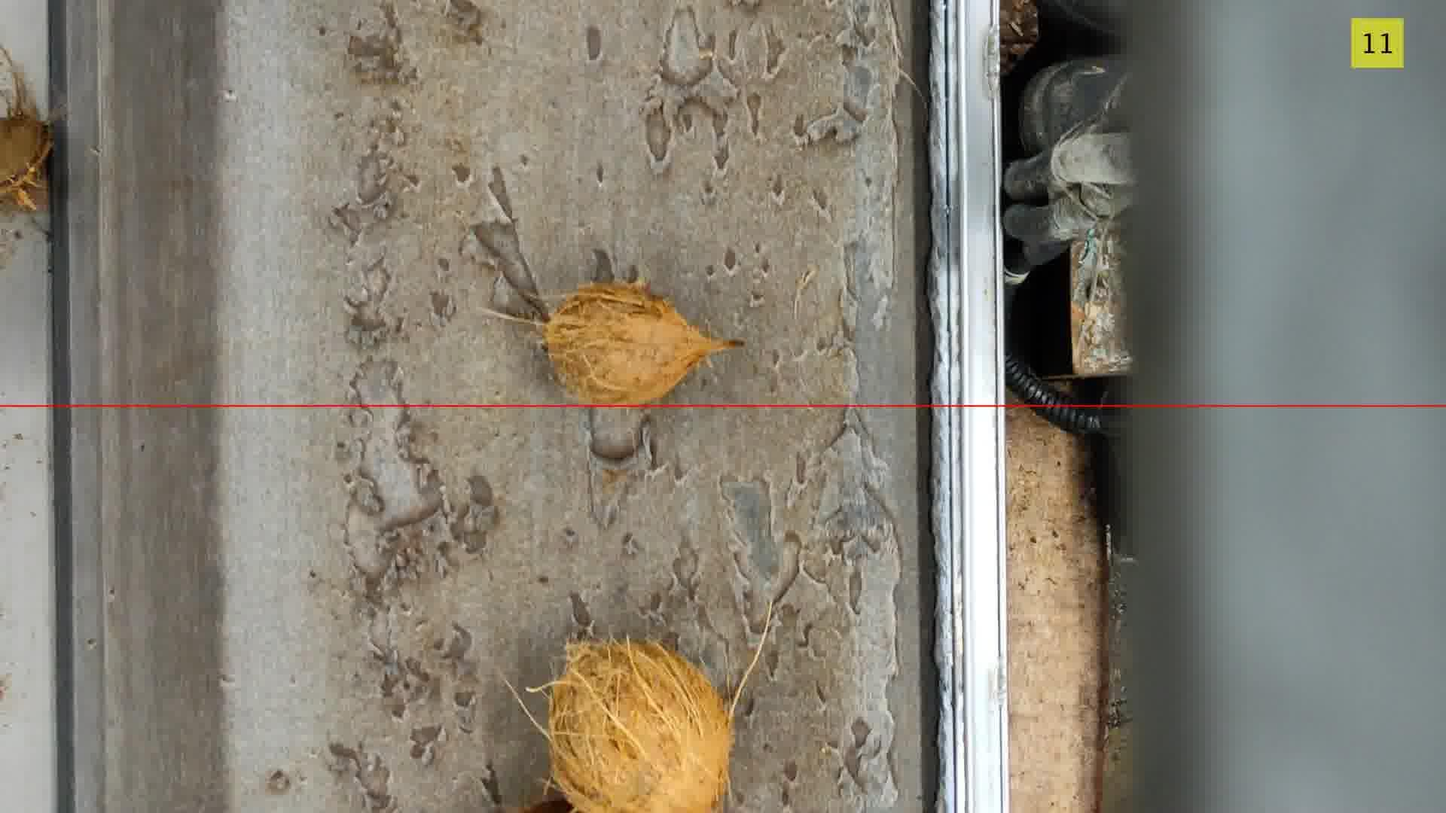Coconut: (548, 641, 732, 812), (545, 282, 708, 403), (0, 48, 53, 210)
